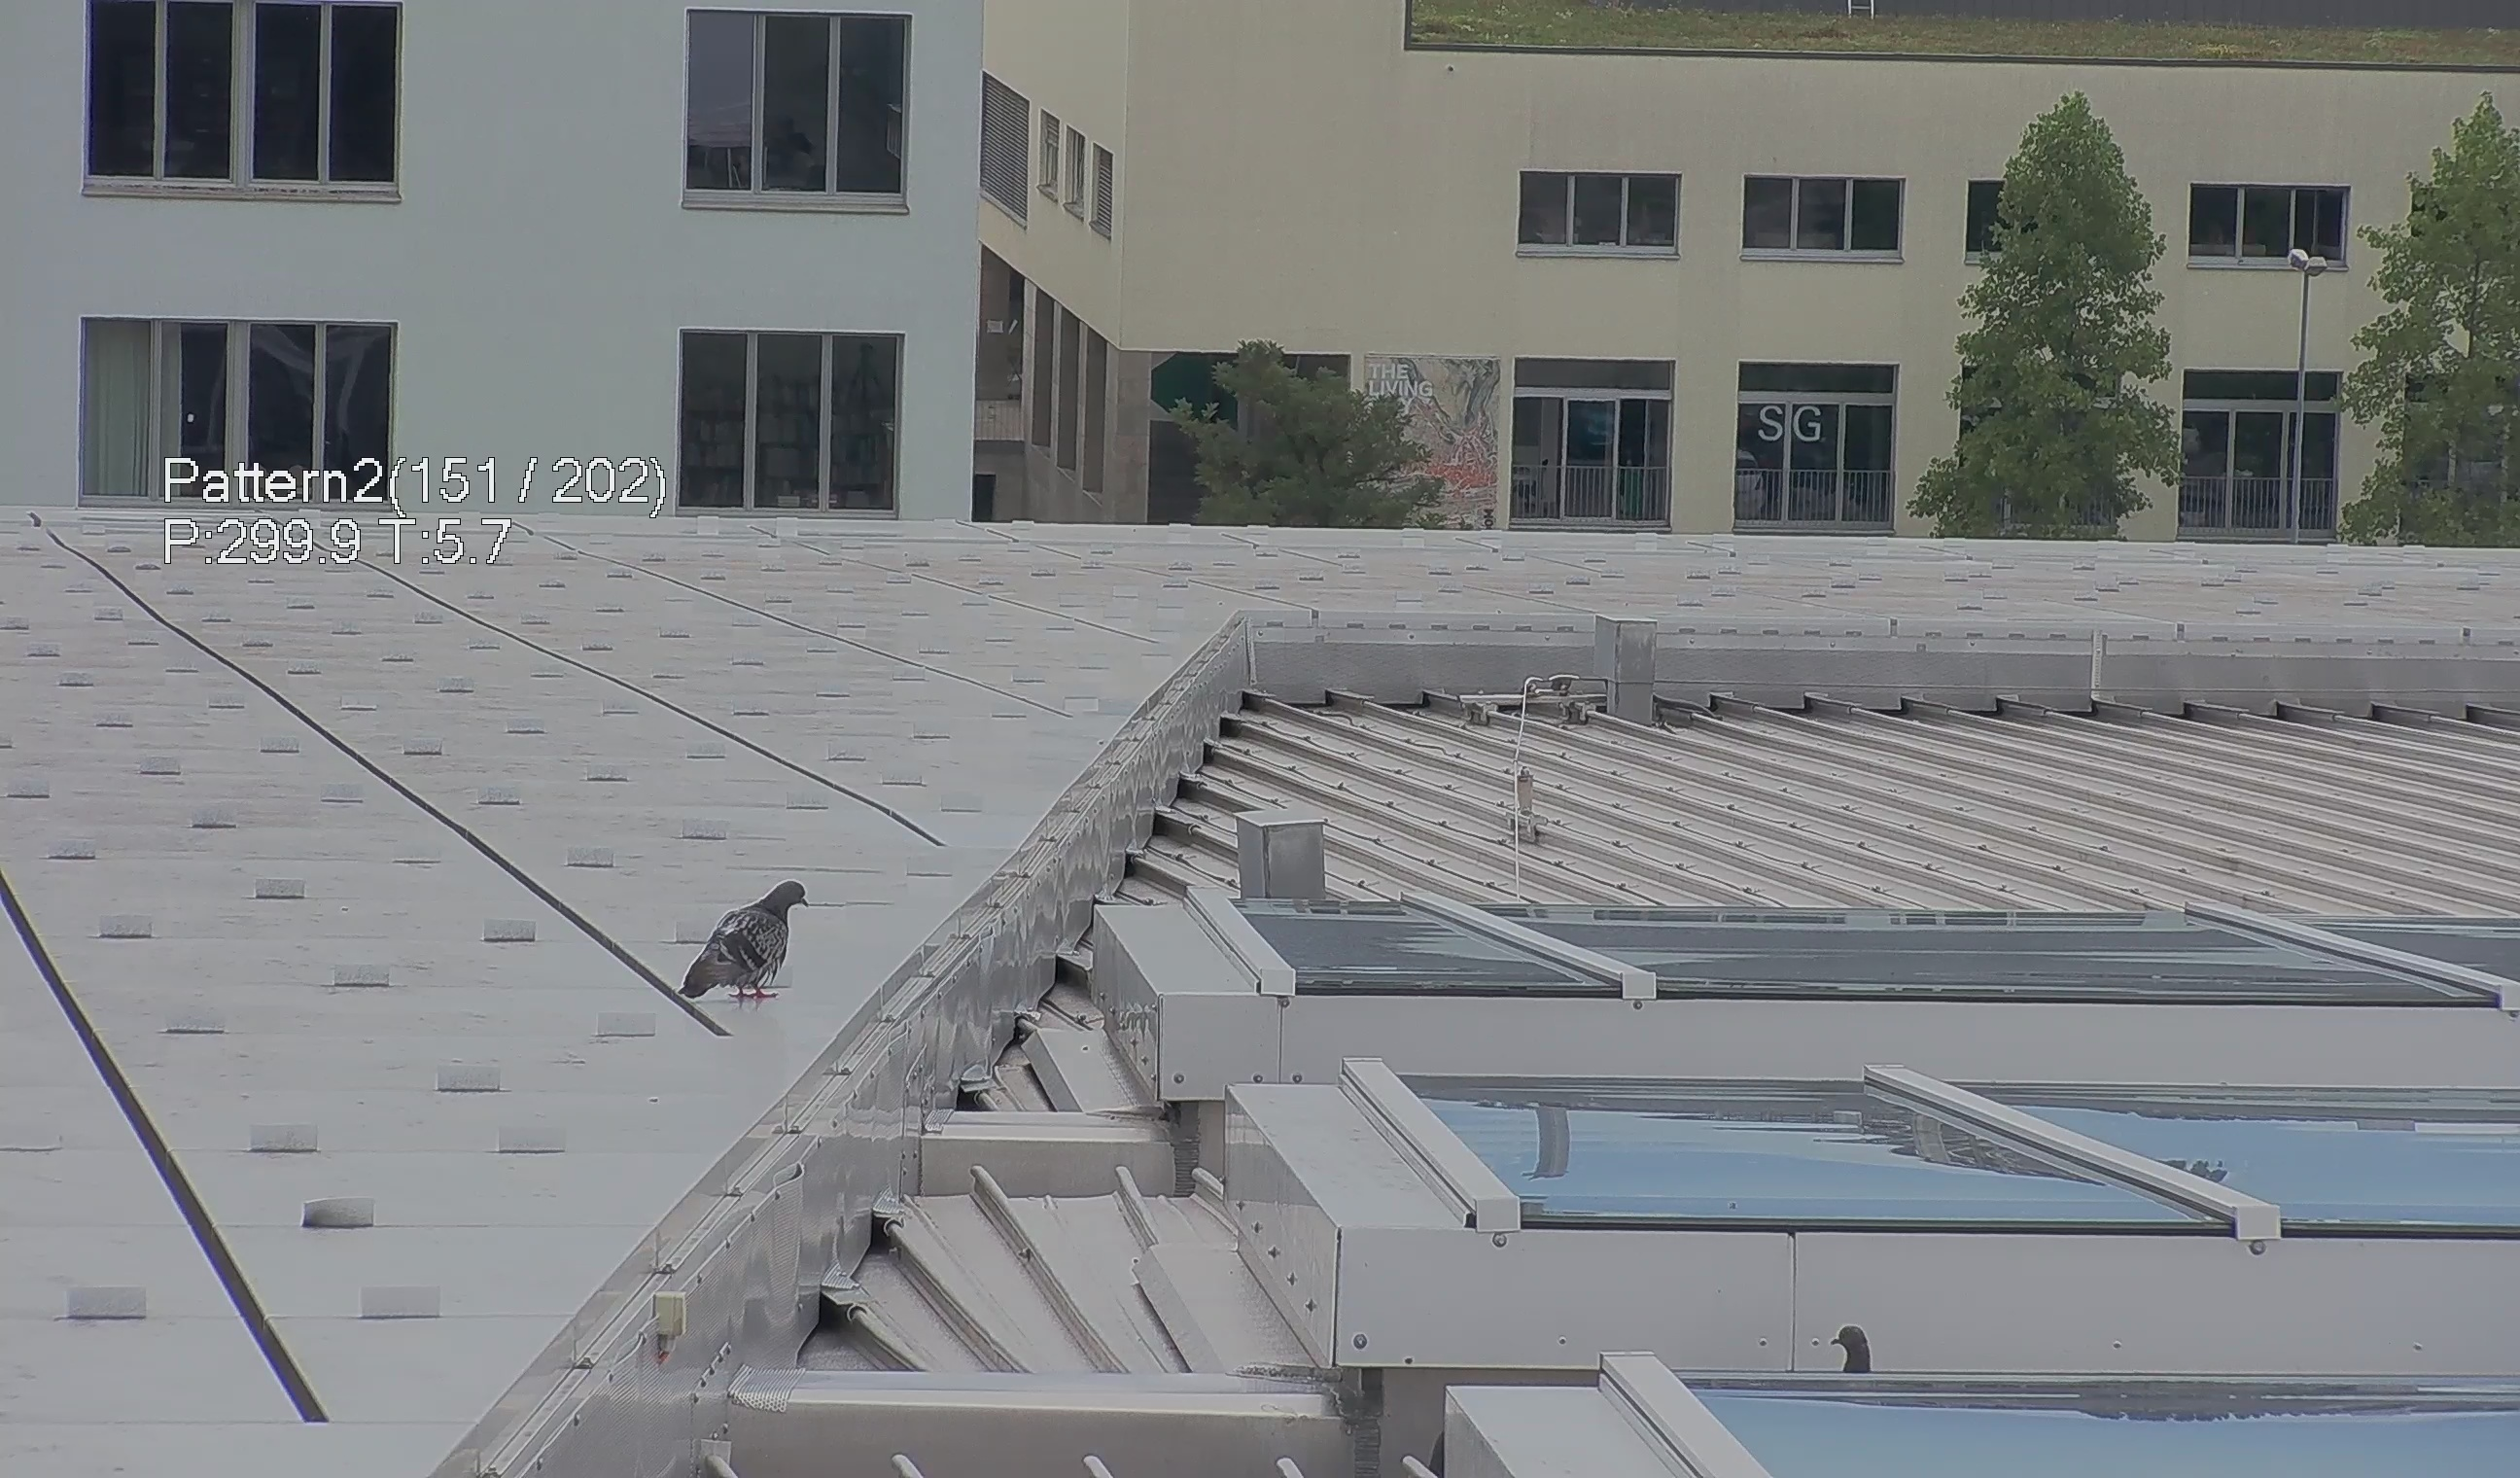Pigeon: (666, 866, 823, 1031), (1824, 1314, 1892, 1372)
